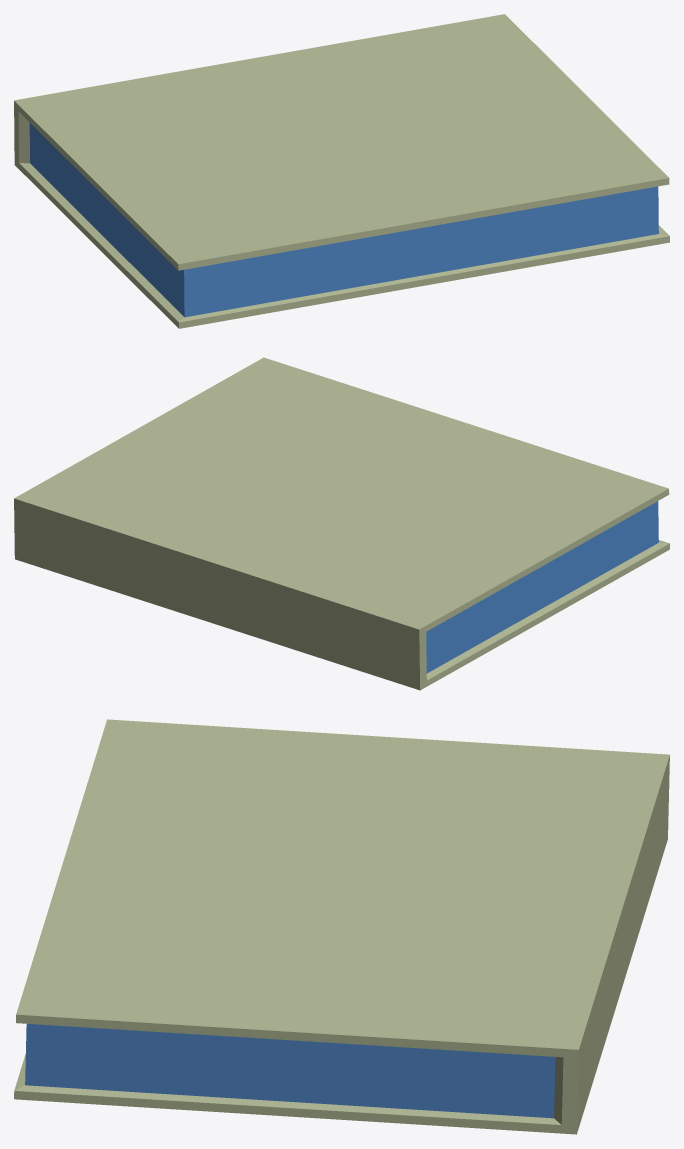
The model's file is Livingroom2_Book.fbx.
3 renders of one model, top to bottom at view 1: azimuth 30°, elevation 25°; view 2: azimuth 150°, elevation 25°; view 3: azimuth 270°, elevation 25°, orthographic. The views are drawn at different scales.
Visible parts, largest first — view 1: Livingroom2_Book; view 2: Livingroom2_Book; view 3: Livingroom2_Book.
Boxes of the visible parts, x1=… form: Livingroom2_Book: x1=14, y1=14, x2=669, y2=328; Livingroom2_Book: x1=14, y1=357, x2=669, y2=690; Livingroom2_Book: x1=14, y1=719, x2=669, y2=1134.
Size of the model in its own units: 36.47 by 4.64 by 30.97.
